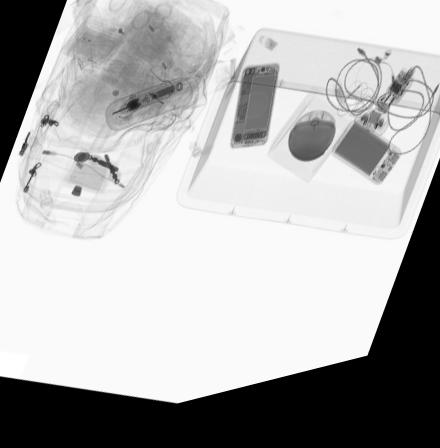Powerbank: (329, 138, 402, 206)
